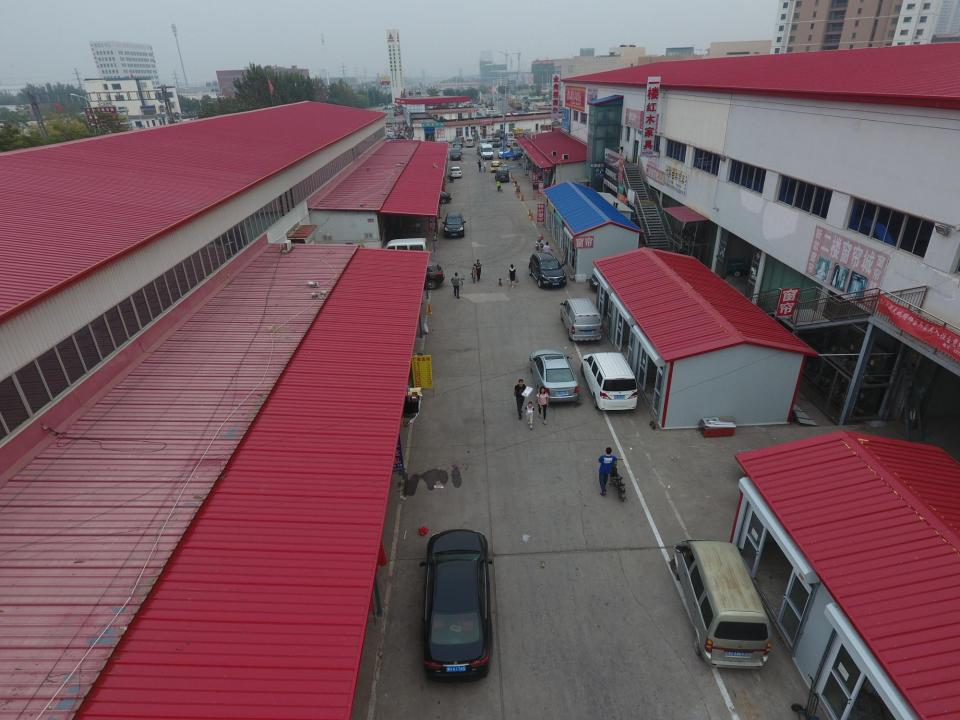car: (420, 529, 492, 681), (530, 349, 580, 402), (390, 260, 446, 288), (528, 252, 567, 288), (408, 190, 453, 206), (442, 211, 466, 238), (497, 147, 510, 159), (449, 148, 461, 160), (449, 167, 462, 178), (490, 161, 503, 172), (510, 147, 522, 157), (453, 137, 463, 148), (477, 146, 487, 156), (454, 145, 463, 155), (493, 138, 502, 147), (505, 139, 515, 147), (438, 140, 448, 148), (479, 140, 488, 148)
van: (670, 538, 772, 670), (580, 352, 637, 410), (560, 298, 602, 341), (376, 238, 429, 261), (480, 143, 494, 160), (495, 168, 509, 182), (485, 132, 495, 142), (505, 132, 514, 141), (466, 137, 474, 147), (485, 110, 498, 116)
